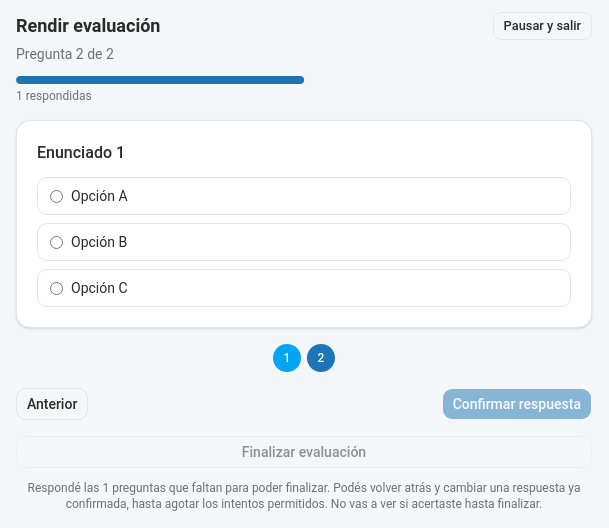
Test: RendirEvaluacion › sin cambiar la selección de una pregunta ya respondida, el botón avanza sin volver a registrar
The width and height of the screenshot is (609, 528).
Check: the text "Enunciado 1" is shown, box [37,143,125,162]
Click the button "Anterior" at coordinates (52, 404), box [16,388,88,420]
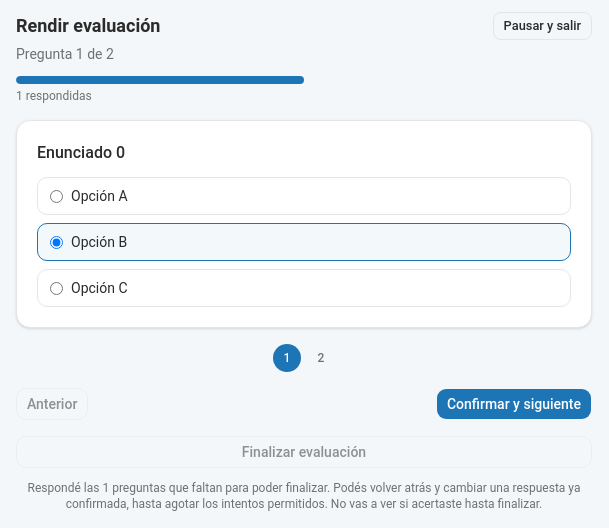
Check: the text "Enunciado 0" is shown, box [37,143,125,162]
Click the button "Confirmar y siguiente" at coordinates (514, 404), box [436,388,592,420]
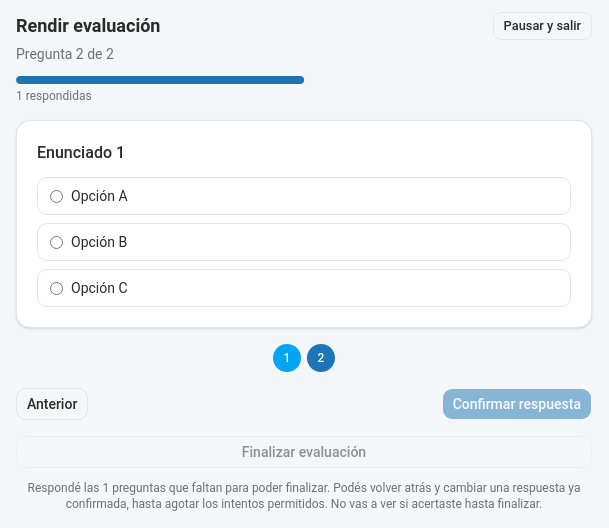
Check: the text "Enunciado 1" is shown, box [37,143,125,162]
